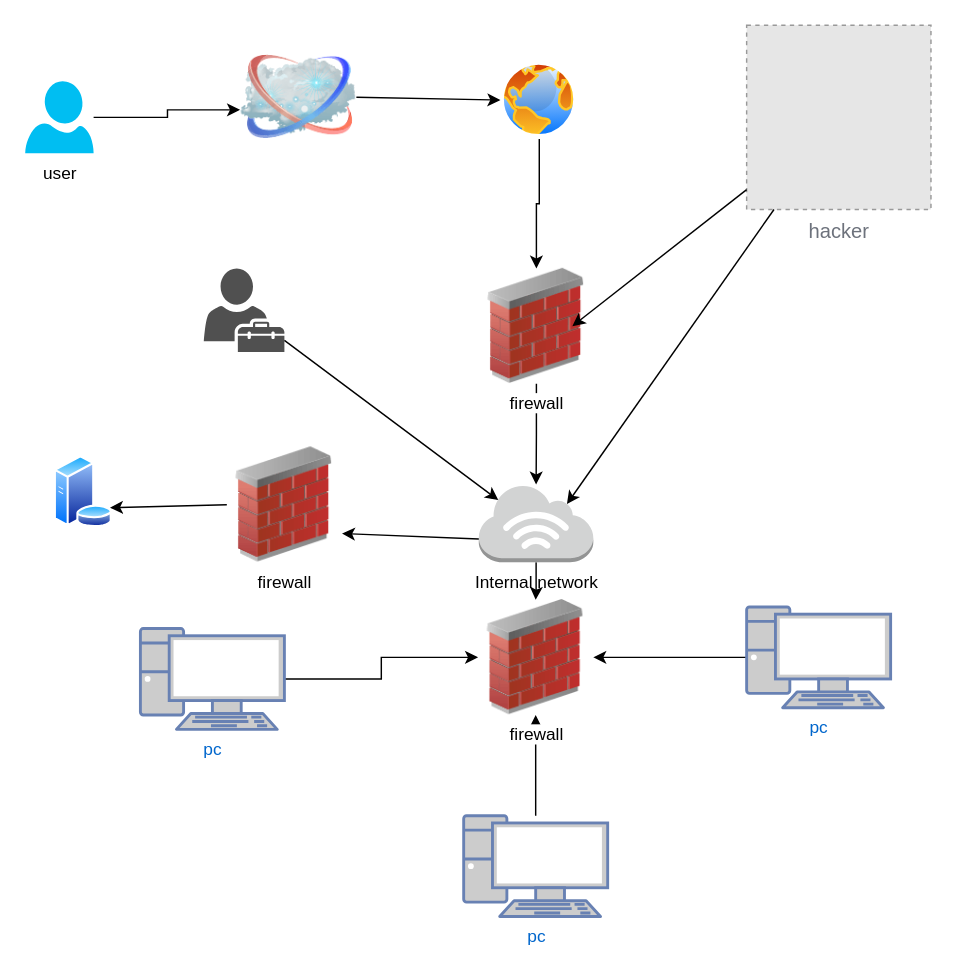
Image size: 956x972. Some labels were removed from this diagram. Grey dashed boxes stand in for pictures. The box of each missing label's shape, as (x1, y1, x2, y2) in pixels:
admin: (203, 268, 284, 351)
database: (53, 455, 112, 527)
internet cloud: (240, 39, 356, 154)
internet traffic: (500, 60, 577, 138)
